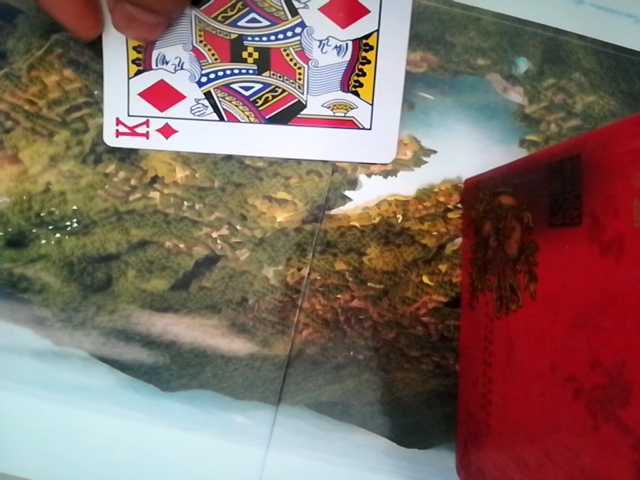fk k: (95, 0, 413, 162)
